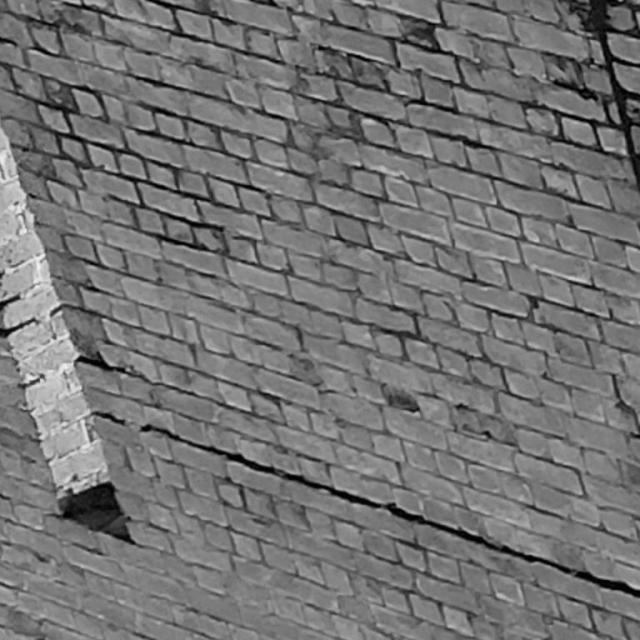crack: (91, 411, 640, 597), (74, 358, 129, 373)
